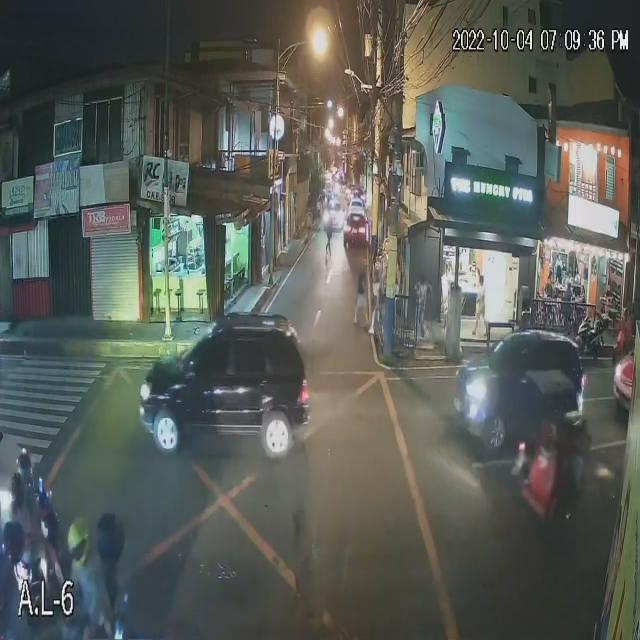helmet: (66, 518, 91, 553), (14, 448, 34, 474), (8, 476, 25, 506)
motorcycle: (0, 517, 72, 589), (571, 309, 614, 356)
rider: (71, 559, 107, 639), (13, 500, 40, 576), (24, 479, 46, 537)
